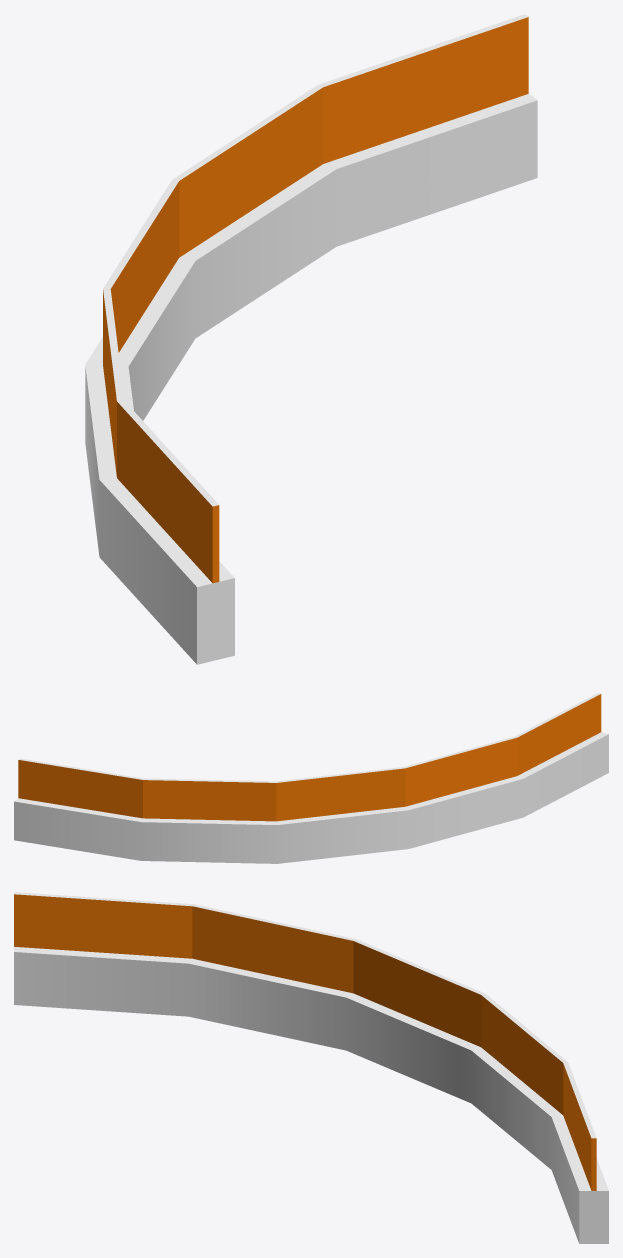
File: BarrierDRoundCorner.fbx
3 renders of one model, top to bottom at view 1: azimuth 30°, elevation 25°; view 2: azimuth 150°, elevation 25°; view 3: azimuth 270°, elevation 25°, orthographic. The views are drawn at different scales.
Parts seen in each view (by area): view 1: BarrierDRoundCorner; view 2: BarrierDRoundCorner; view 3: BarrierDRoundCorner.
Part boxes in pixels (box(x1,y1,x2,y2)): BarrierDRoundCorner: box(85, 14, 537, 664); BarrierDRoundCorner: box(14, 693, 608, 863); BarrierDRoundCorner: box(14, 892, 608, 1243).
Bounding box in the file's own units: 280 × 54.79 × 280.
1 material, 1 textured.
